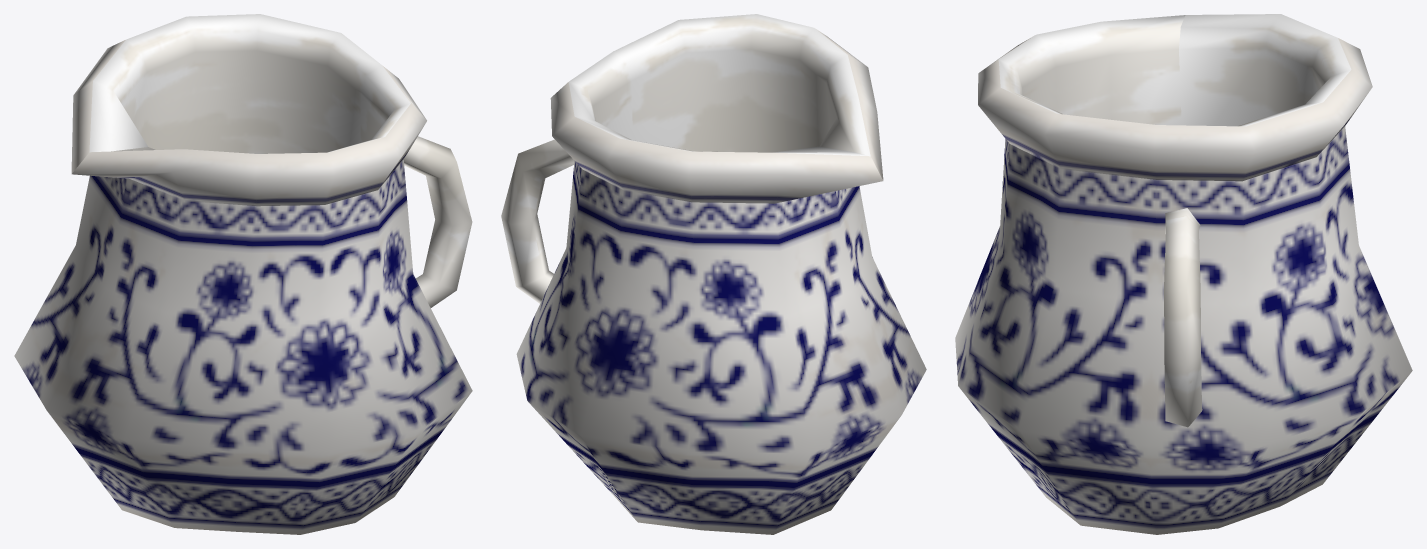
File: SM_PROP_jug_city_02.fbx
3 renders of one model, left to right at view 1: azimuth 30°, elevation 25°; view 2: azimuth 150°, elevation 25°; view 3: azimuth 270°, elevation 25°, orthographic. The views are drawn at different scales.
Parts seen in each view (by area): view 1: SM_PROP_jug_city_02; view 2: SM_PROP_jug_city_02; view 3: SM_PROP_jug_city_02.
Boxes of the visible parts, bbox=[...] form: SM_PROP_jug_city_02: bbox=[14, 14, 472, 534]; SM_PROP_jug_city_02: bbox=[501, 14, 926, 534]; SM_PROP_jug_city_02: bbox=[955, 14, 1412, 534].
Size of the model in its own units: 34.72 by 32.16 by 31.96.
